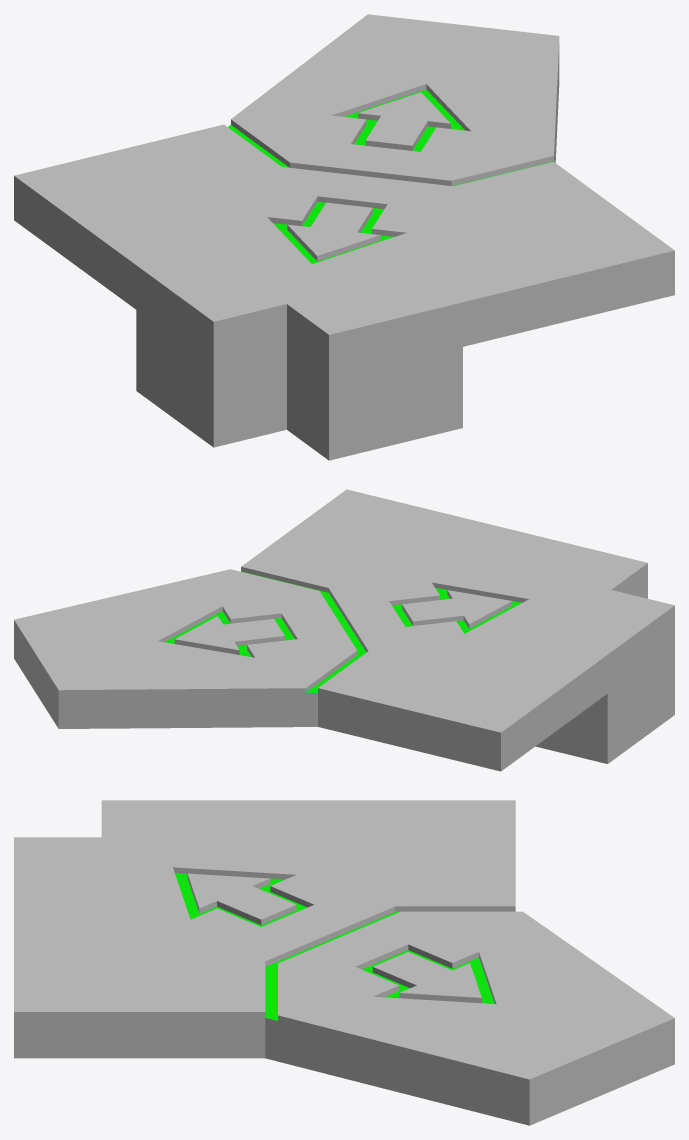
File: x_KREPOST_wall_18_platform3_HR1_rmstrd.fbx
3 renders of one model, top to bottom at view 1: azimuth 30°, elevation 25°; view 2: azimuth 150°, elevation 25°; view 3: azimuth 270°, elevation 25°, orthographic. The views are drawn at different scales.
Visible parts, largest first — view 1: x_KREPOST_wall_18_platform3_HR1_rmstrd1; view 2: x_KREPOST_wall_18_platform3_HR1_rmstrd1; view 3: x_KREPOST_wall_18_platform3_HR1_rmstrd1.
Part boxes in pixels (x1=…): x_KREPOST_wall_18_platform3_HR1_rmstrd1: x1=14, y1=14, x2=674, y2=460; x_KREPOST_wall_18_platform3_HR1_rmstrd1: x1=14, y1=489, x2=674, y2=771; x_KREPOST_wall_18_platform3_HR1_rmstrd1: x1=14, y1=800, x2=674, y2=1125.
Bounding box in the file's own units: 5.29 × 1.15 × 5.29.
